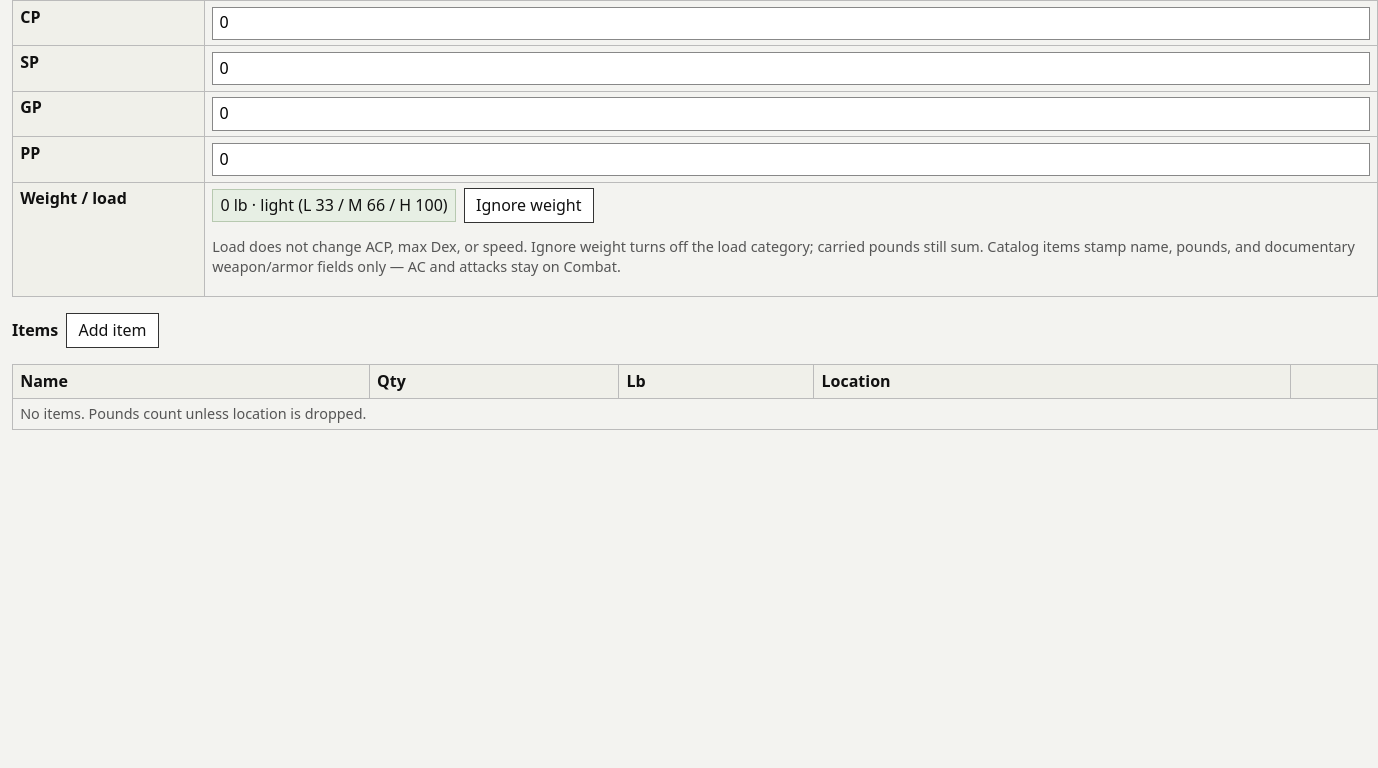
InventoryPanel weapon properties › stamps reach and trip together on a guisarme
Click the button "Add item" at x=112, y=330, box [66,313,159,348]
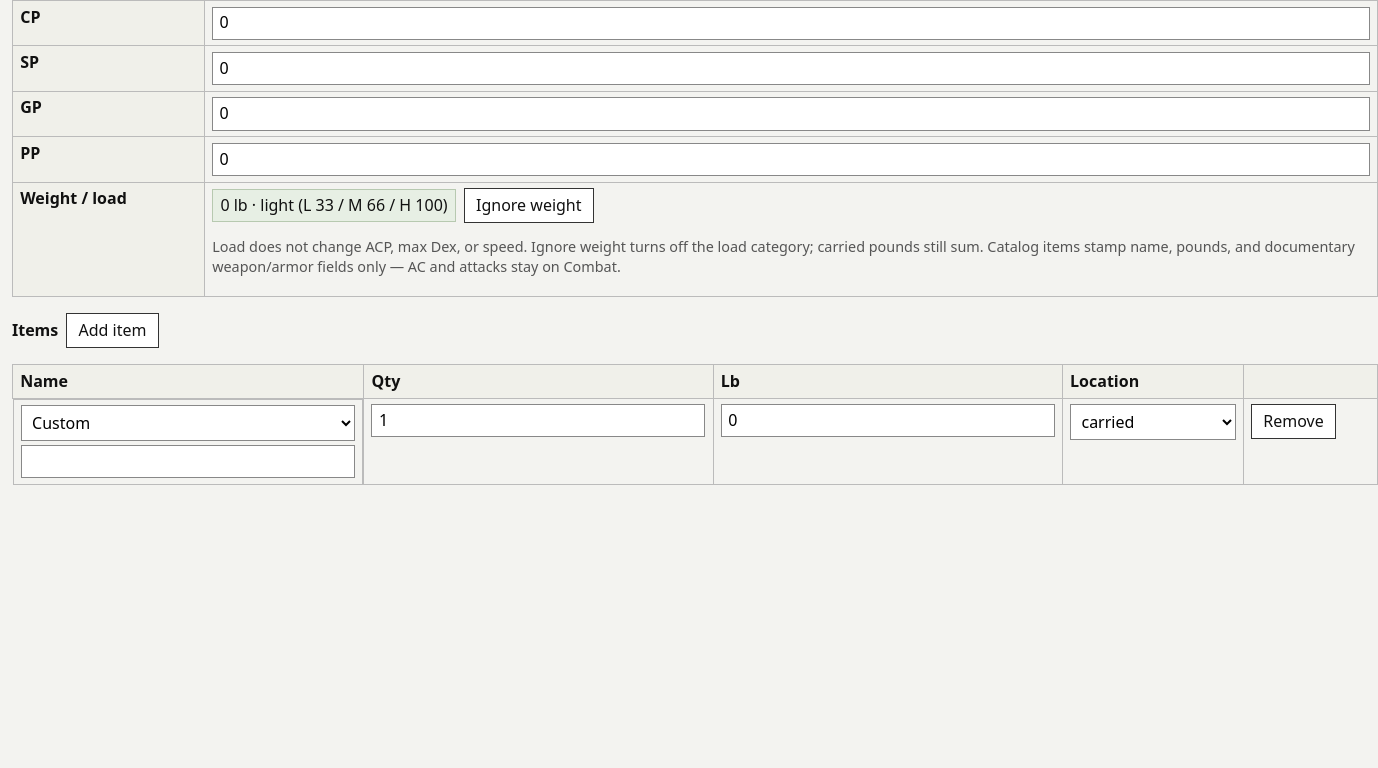
Select "Guisarme" in the dropdown named "CRB item" at x=188, y=423, box [21,405,355,441]
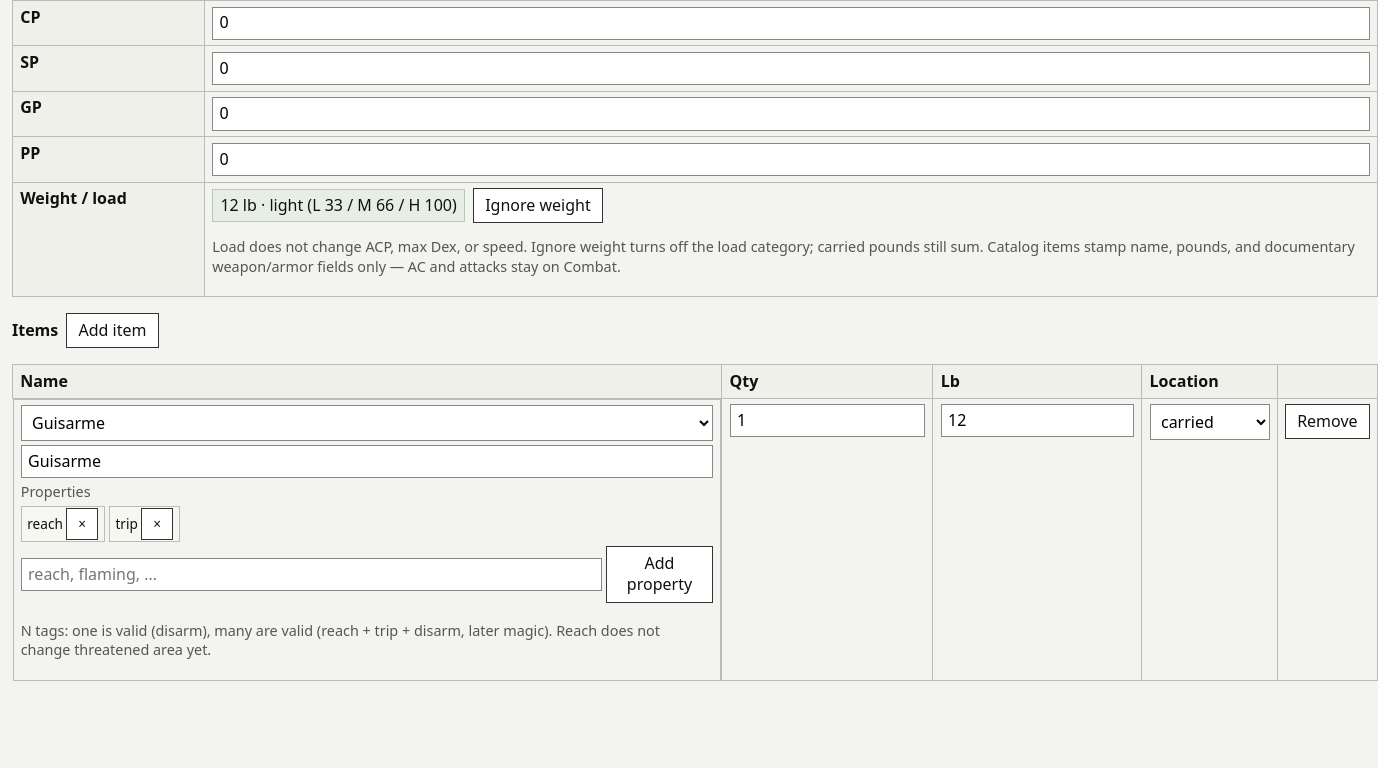
Expected: the text "reach" is shown, [27,515,63,533]
Expected: the text "trip" is shown, [115,515,138,533]
